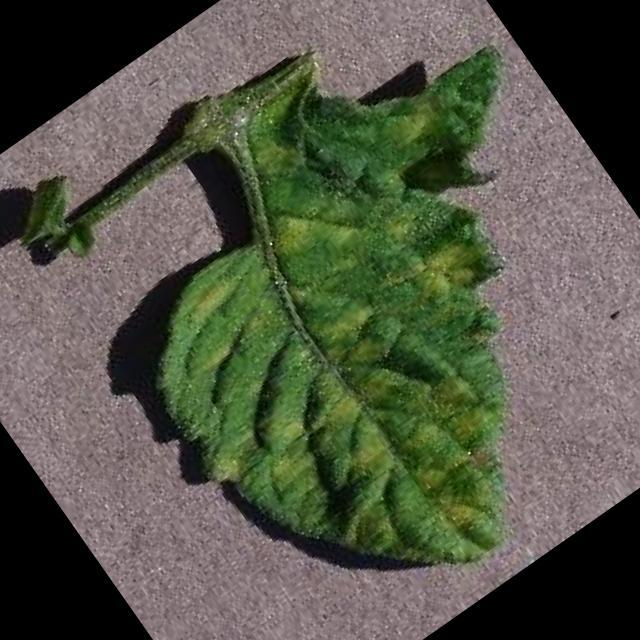Tomato mold leaf: (49, 0, 640, 640)
